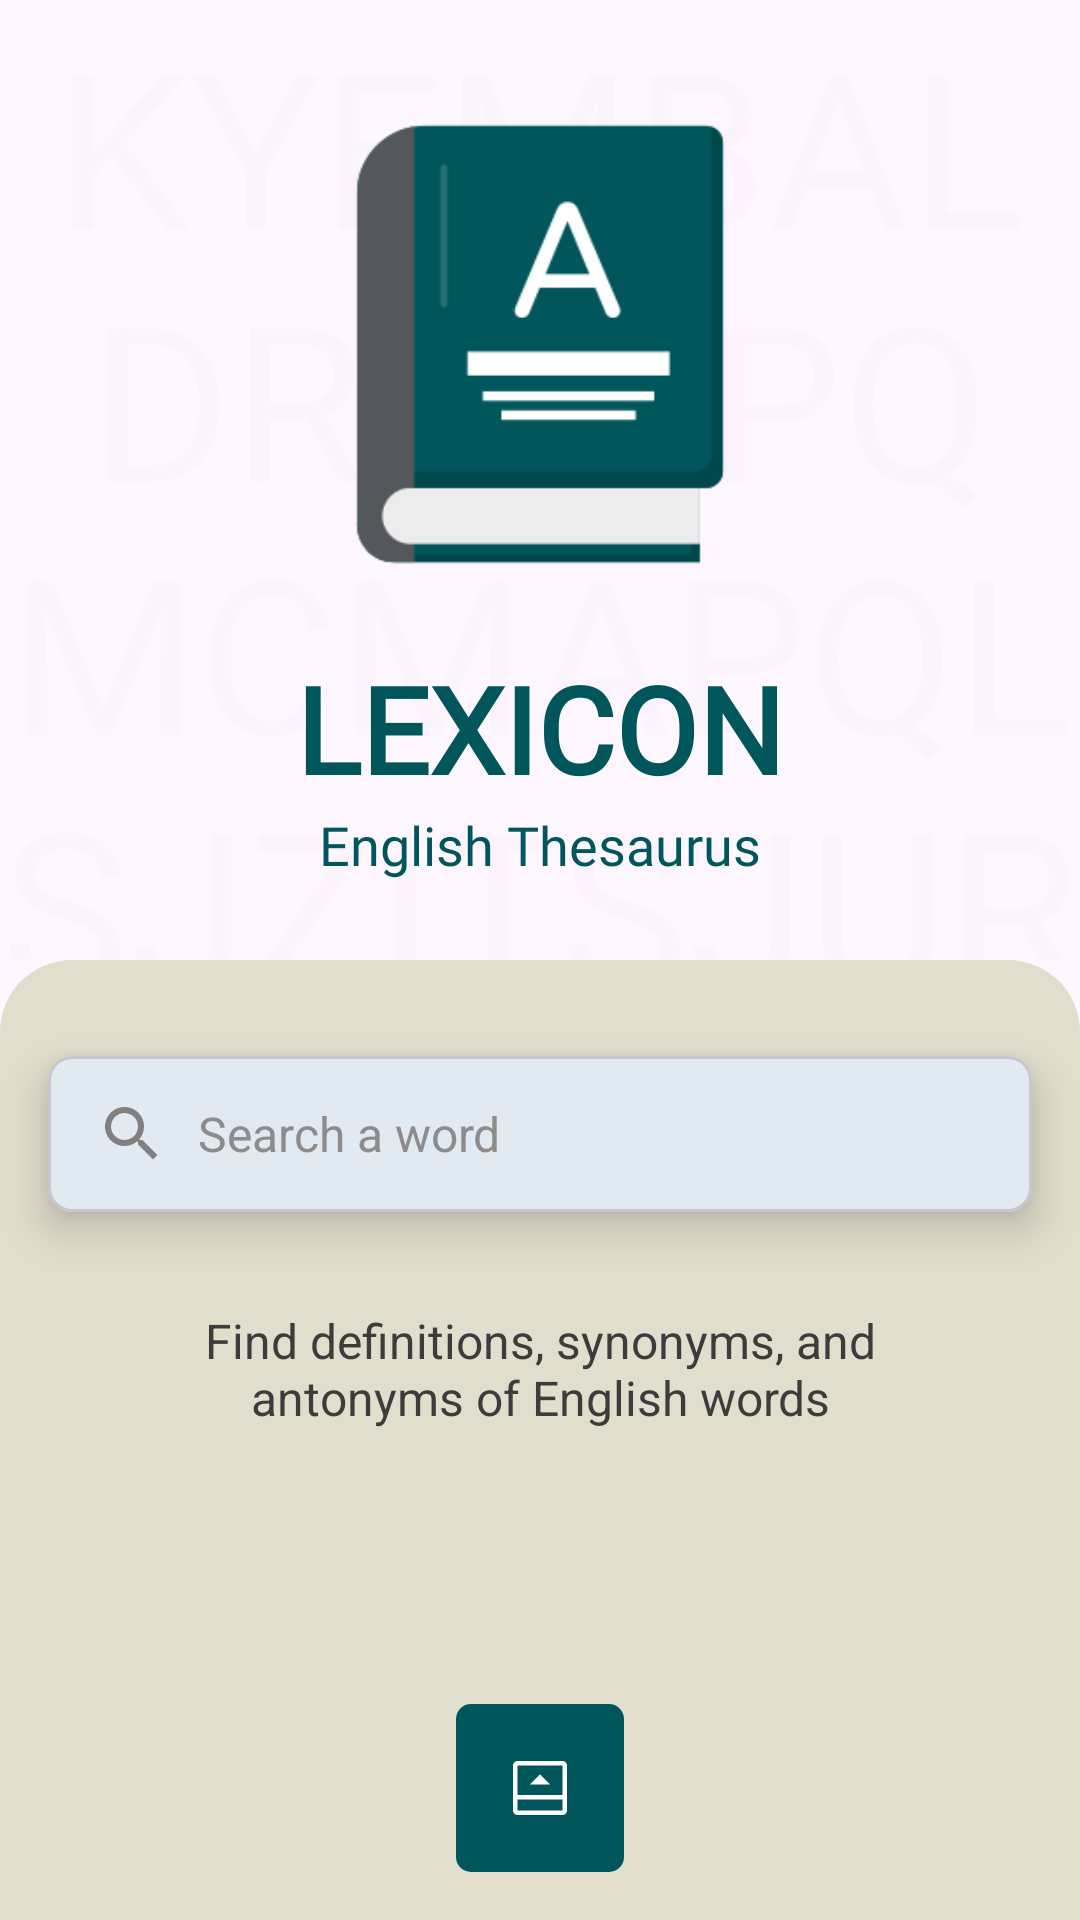

Icons on this 1080px x 1920px Android screen, each with its box as (left=x1, top=y1, right=x2, bottom=y2):
bottom panel open: (left=456, top=1704, right=624, bottom=1872)
